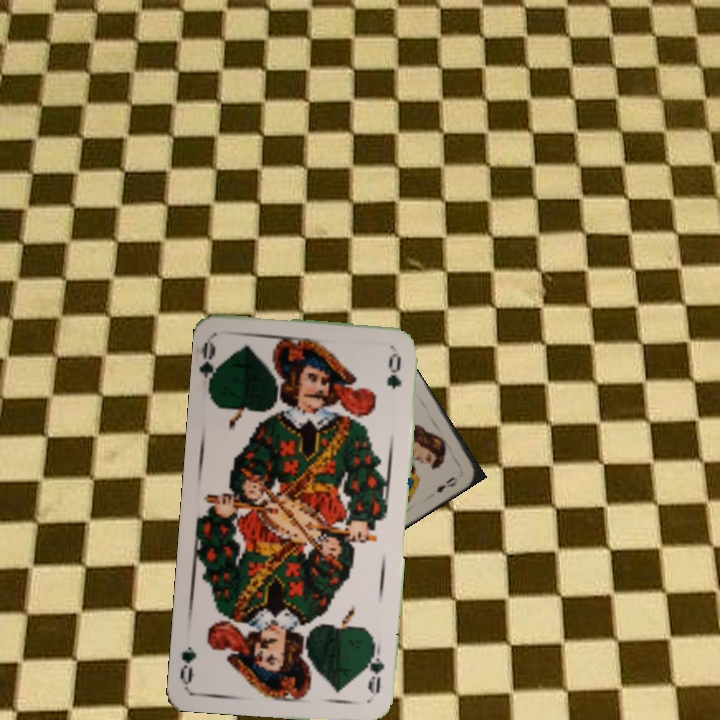GO: (197, 336, 225, 396), (361, 640, 387, 696)
